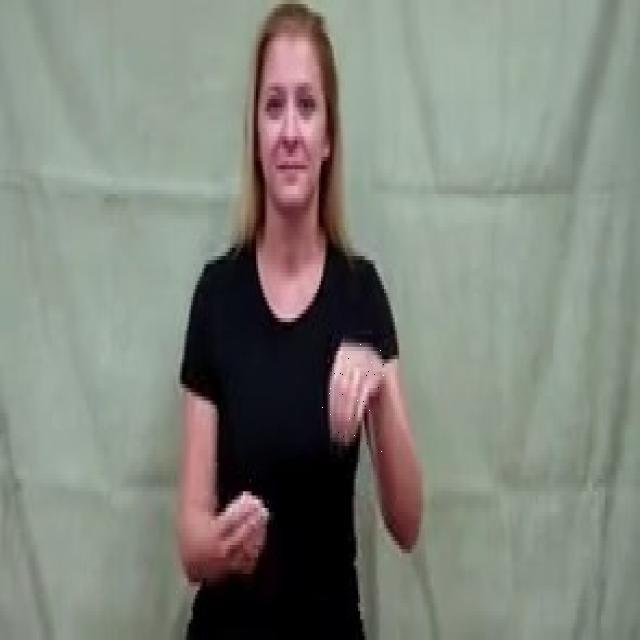ingredients: (320, 336, 384, 452)
